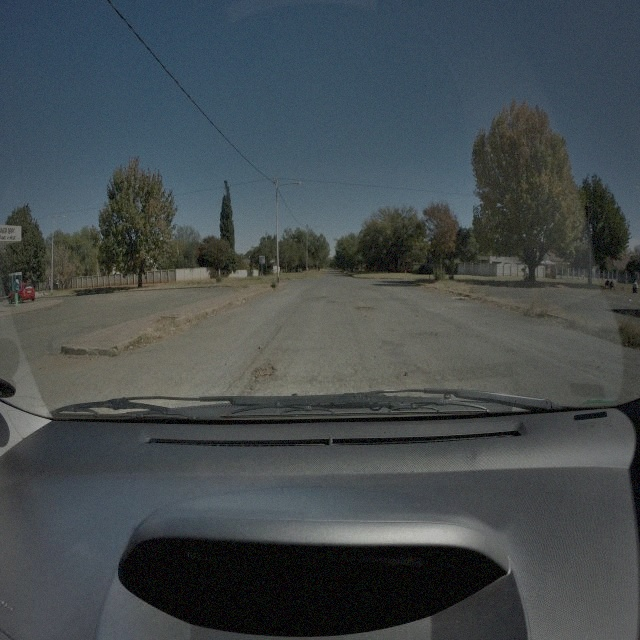pothole: (251, 362, 277, 383), (354, 304, 375, 312)
